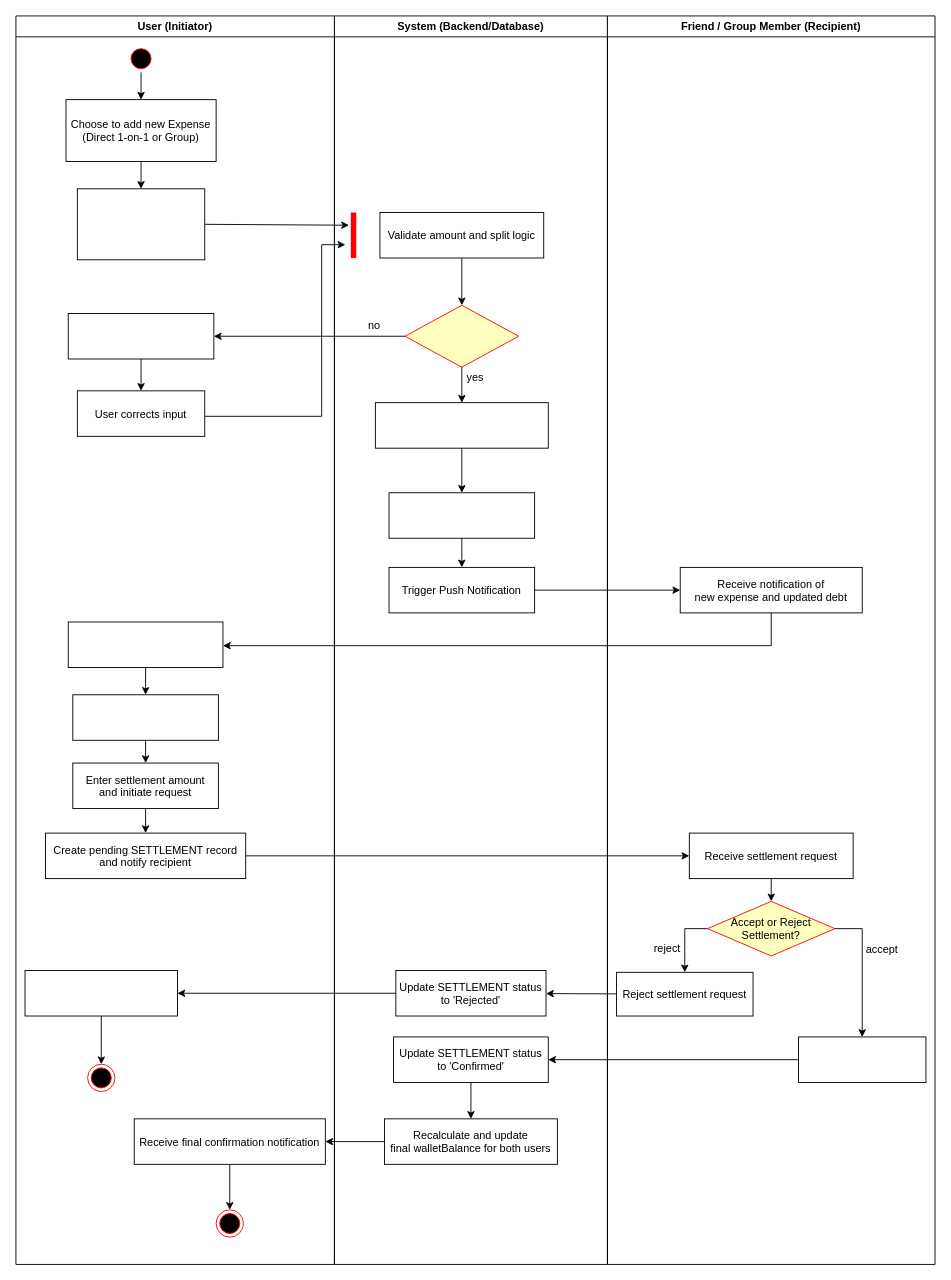
This 951x1280 diagram has some shape labels left out. Here are the shapes that lost their labels. From the top down, the centre of each, then its label:
At [140,224]: "Enter expense details - Amount - Category - Split Type".
At [140,336]: "Show error message".
At [461,335]: "Is validation successful?".
At [461,425]: "Calculate individual shares and save EXPENSE record".
At [461,515]: "Update walletBalance for all affected users".
At [145,644]: "Time passes... User decides to clear debt".
At [145,717]: "View outstanding balance and click 'Settle Up'".
At [100,993]: "Receive rejection notification".
At [862,1059]: "Confirm receipt of funds".
